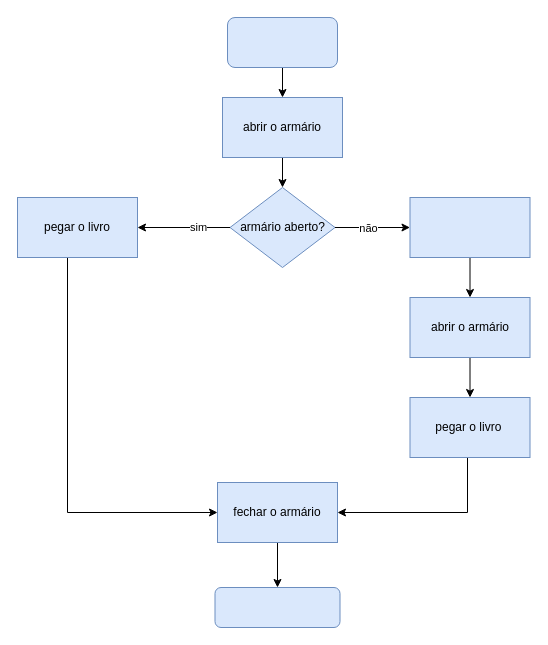
The diagram is 548 pixels wide and 645 high, and some of its shapes have lost their labels. The centre of each missing label's shape, as x and y in pixels:
"fim" goes at [277,607].
"inicío" goes at [282,42].
"pegar a chave" goes at [469,227].
